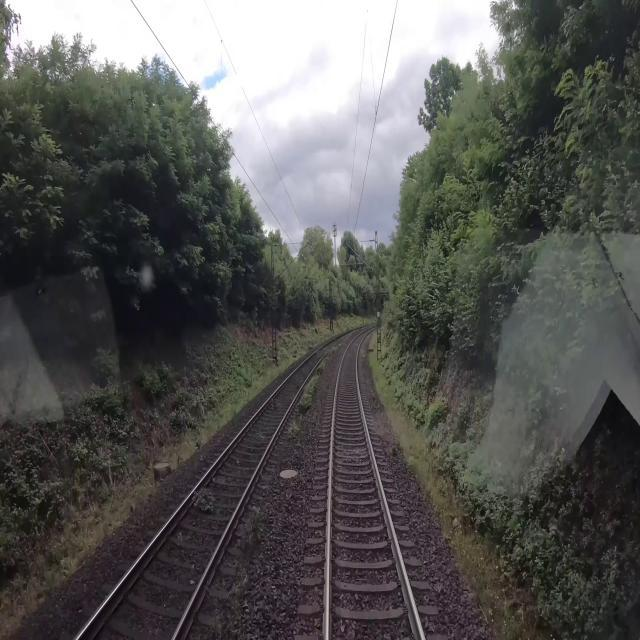Plant: (211, 500, 275, 639), (286, 361, 327, 443), (192, 488, 215, 514)
